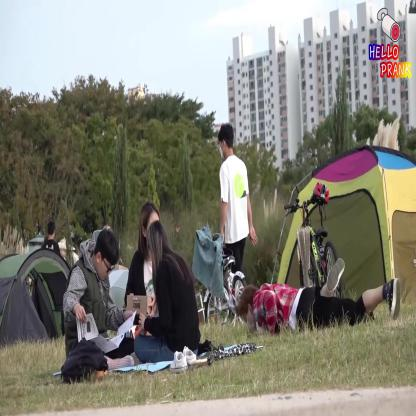Fall_Down: (237, 258, 399, 340)
